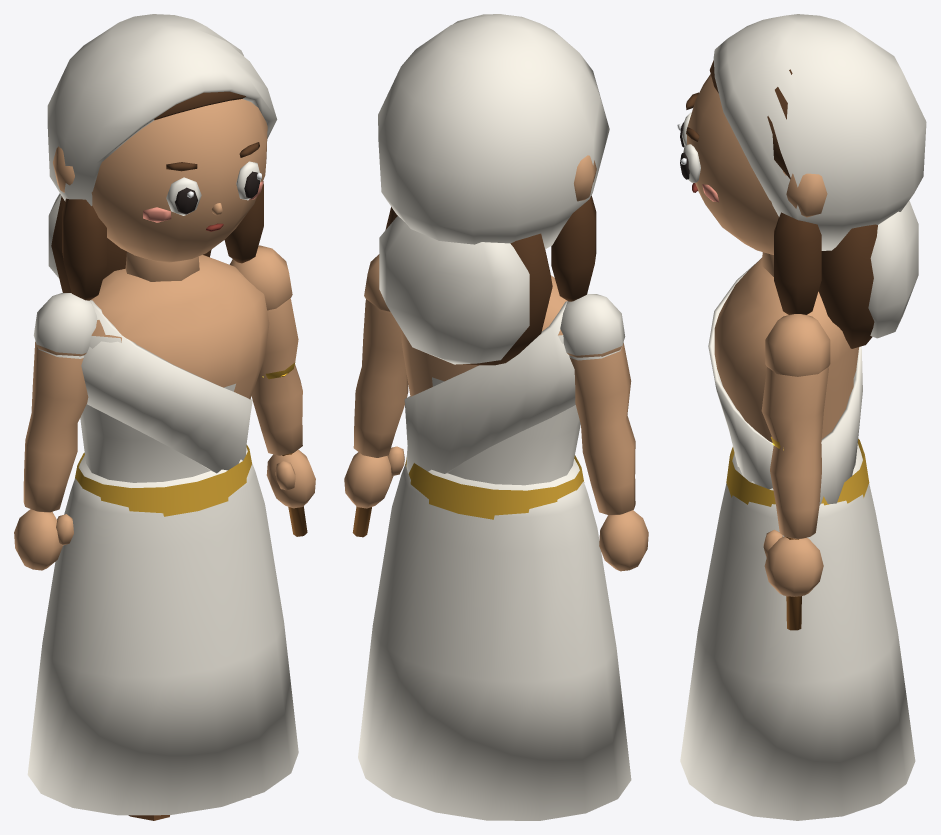
The model's file is tempeldienerin.glb.
3 views of the same model, side by side, from view 1: azimuth 30°, elevation 25°; view 2: azimuth 150°, elevation 25°; view 3: azimuth 270°, elevation 25° (orthographic).
Visible parts, largest first — view 1: huefte, rumpf, kopfschmuck, kopf, armL, armR, haare, augeL, augeR, itemR; view 2: huefte, kopfschmuck, rumpf, armL, armR, haare, kopf; view 3: huefte, kopfschmuck, rumpf, armR, haare, kopf, augeR, itemR.
Part boxes in pixels (x1=…): huefte: x1=27, y1=447, x2=298, y2=815; rumpf: x1=75, y1=255, x2=269, y2=516; kopfschmuck: x1=47, y1=14, x2=277, y2=278; kopf: x1=53, y1=99, x2=267, y2=281; armL: x1=14, y1=293, x2=97, y2=570; armR: x1=229, y1=245, x2=315, y2=508; haare: x1=51, y1=91, x2=263, y2=300; augeL: x1=166, y1=177, x2=201, y2=215; augeR: x1=236, y1=161, x2=261, y2=200; itemR: x1=262, y1=361, x2=307, y2=536; huefte: x1=358, y1=459, x2=631, y2=820; kopfschmuck: x1=378, y1=14, x2=609, y2=364; rumpf: x1=401, y1=275, x2=584, y2=519; armL: x1=560, y1=294, x2=648, y2=571; armR: x1=344, y1=254, x2=408, y2=508; haare: x1=385, y1=195, x2=596, y2=365; kopf: x1=574, y1=155, x2=596, y2=201; huefte: x1=680, y1=443, x2=915, y2=820; kopfschmuck: x1=713, y1=14, x2=926, y2=338; rumpf: x1=708, y1=257, x2=869, y2=506; armR: x1=761, y1=314, x2=830, y2=596; haare: x1=709, y1=60, x2=877, y2=348; kopf: x1=686, y1=74, x2=827, y2=276; augeR: x1=680, y1=144, x2=700, y2=183; itemR: x1=770, y1=436, x2=801, y2=630.
Bounding box in the file's own units: 0.9329 × 2.3 × 0.6881.
